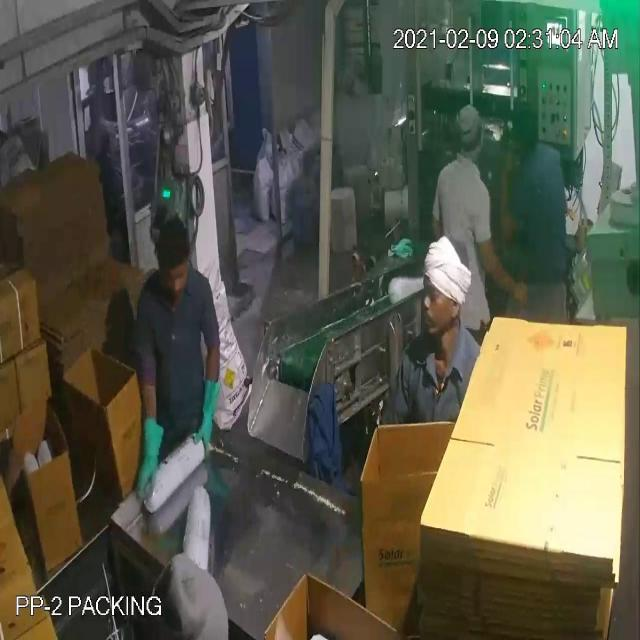Gloves: (34, 97, 509, 451)
